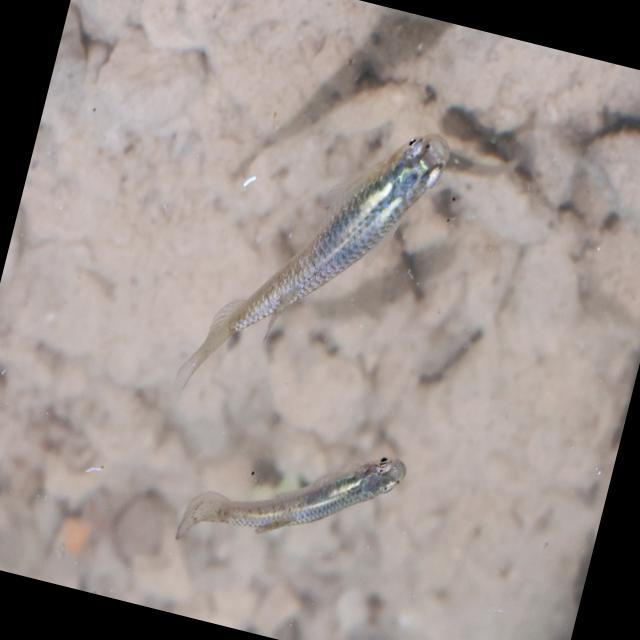Sivrisinek Baligi: (168, 80, 466, 448), (174, 407, 408, 584)
